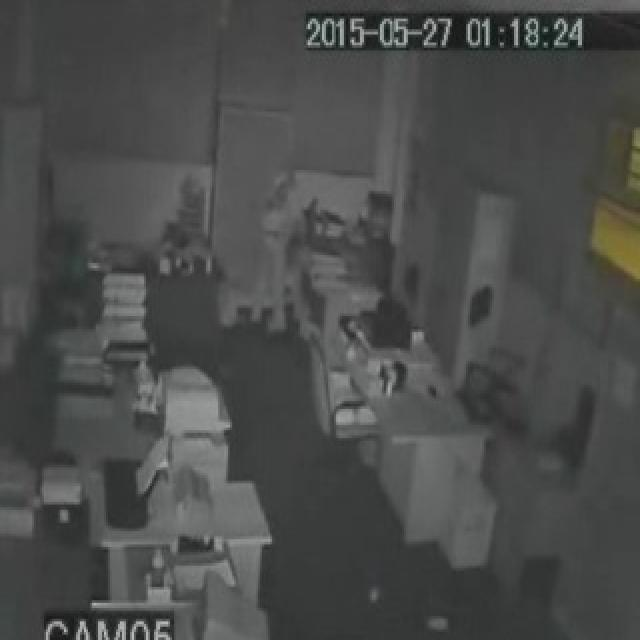thief: (240, 157, 325, 361)
